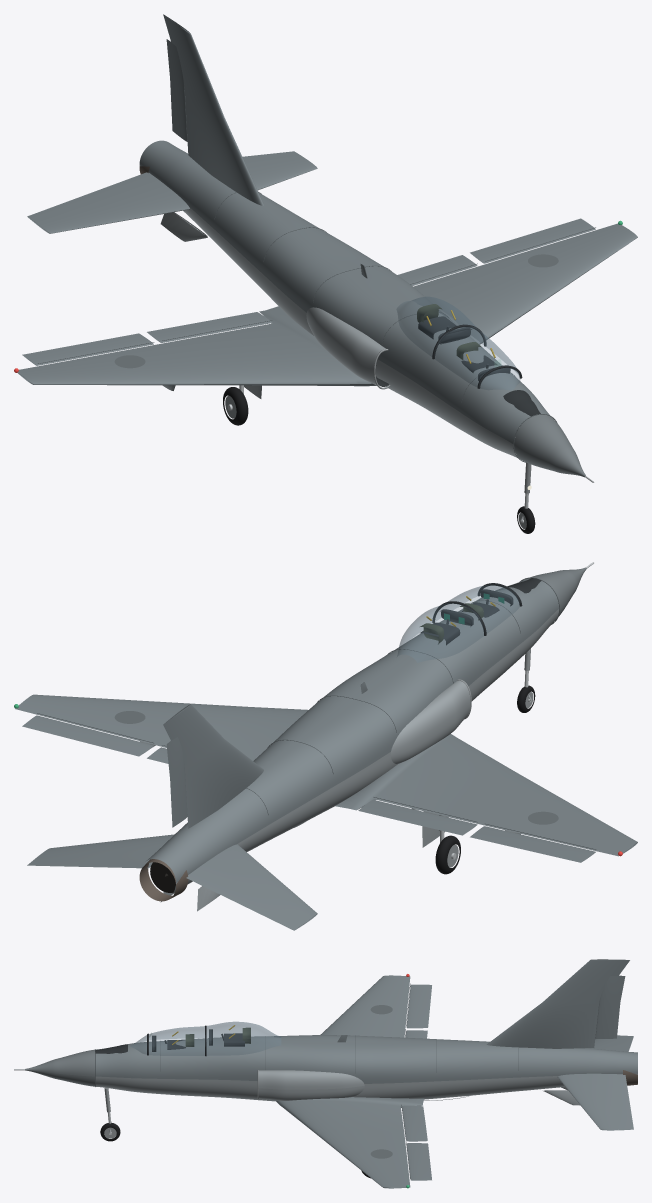
File: trainer-visual.glb
3 views of the same model, one above another, from view 1: azimuth 30°, elevation 25°; view 2: azimuth 150°, elevation 25°; view 3: azimuth 270°, elevation 25° (orthographic). The views are drawn at different scales.
Parts seen in each view (by area): view 1: Continuous shaped fuselage, Main wing -1, Main wing 1, Single swept vertical fin, Cockpit glazed canopy, All-moving tailplane -1, Fuselage lower skin, Side intake fairing -1, Nose cone, Aileron 1, All-moving tailplane 1, Aileron -1 (+4 smaller); view 2: Continuous shaped fuselage, Main wing -1, Main wing 1, Single swept vertical fin, Cockpit glazed canopy, All-moving tailplane -1, Fuselage lower skin, Side intake fairing -1, All-moving tailplane 1, Aileron 1, Aileron -1, Flap -1 (+5 smaller); view 3: Continuous shaped fuselage, Main wing 1, Single swept vertical fin, Fuselage lower skin, Cockpit glazed canopy, Main wing -1, All-moving tailplane 1, Side intake fairing 1, Nose cone, Rudder, Aileron -1, Aileron 1 (+2 smaller).
Part boxes in pixels (bbox=[...]): Continuous shaped fuselage: bbox=[139, 140, 549, 444]; Main wing -1: bbox=[17, 306, 376, 386]; Main wing 1: bbox=[413, 223, 637, 344]; Single swept vertical fin: bbox=[163, 14, 263, 205]; Cockpit glazed canopy: bbox=[396, 296, 520, 389]; All-moving tailplane -1: bbox=[27, 172, 189, 233]; Fuselage lower skin: bbox=[139, 165, 517, 457]; Side intake fairing -1: bbox=[306, 307, 385, 385]; Nose cone: bbox=[514, 414, 585, 477]; Aileron 1: bbox=[470, 218, 595, 263]; All-moving tailplane 1: bbox=[242, 151, 317, 190]; Aileron -1: bbox=[22, 333, 153, 365]; Continuous shaped fuselage: bbox=[146, 578, 558, 882]; Main wing -1: bbox=[335, 734, 637, 856]; Main wing 1: bbox=[15, 694, 308, 760]; Single swept vertical fin: bbox=[163, 704, 263, 828]; Cockpit glazed canopy: bbox=[397, 585, 519, 662]; All-moving tailplane -1: bbox=[186, 844, 317, 930]; Fuselage lower skin: bbox=[172, 609, 558, 894]; Side intake fairing -1: bbox=[390, 680, 470, 763]; All-moving tailplane 1: bbox=[27, 834, 174, 868]; Aileron 1: bbox=[22, 715, 153, 756]; Aileron -1: bbox=[470, 826, 595, 862]; Flap -1: bbox=[358, 799, 477, 835]; Continuous shaped fuselage: bbox=[95, 1035, 637, 1083]; Main wing 1: bbox=[275, 1097, 423, 1188]; Single swept vertical fin: bbox=[486, 959, 629, 1048]; Fuselage lower skin: bbox=[95, 1073, 637, 1101]; Cockpit glazed canopy: bbox=[130, 1021, 281, 1055]; Main wing -1: bbox=[320, 975, 410, 1037]; All-moving tailplane 1: bbox=[557, 1073, 633, 1130]; Side intake fairing 1: bbox=[259, 1070, 364, 1100]; Nose cone: bbox=[25, 1049, 94, 1086]; Rudder: bbox=[595, 975, 625, 1038]; Aileron -1: bbox=[406, 984, 431, 1028]; Aileron 1: bbox=[406, 1143, 431, 1180].
Bounding box in the file's own units: 10.01 × 3.98 × 12.42.
